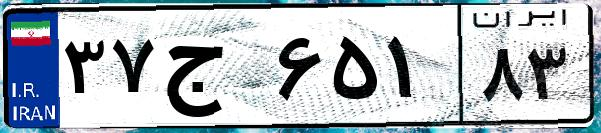1: (385, 28, 445, 110)
3: (57, 26, 110, 100), (525, 38, 570, 115)
5: (330, 28, 385, 110)
6: (270, 28, 330, 110)
7: (110, 28, 158, 98)
8: (475, 38, 525, 113)
ج: (158, 20, 270, 120)
